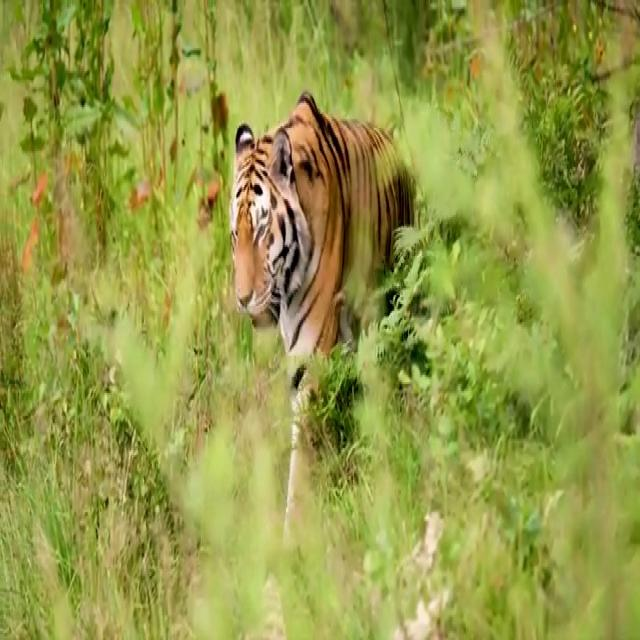tiger: (228, 92, 416, 548)
